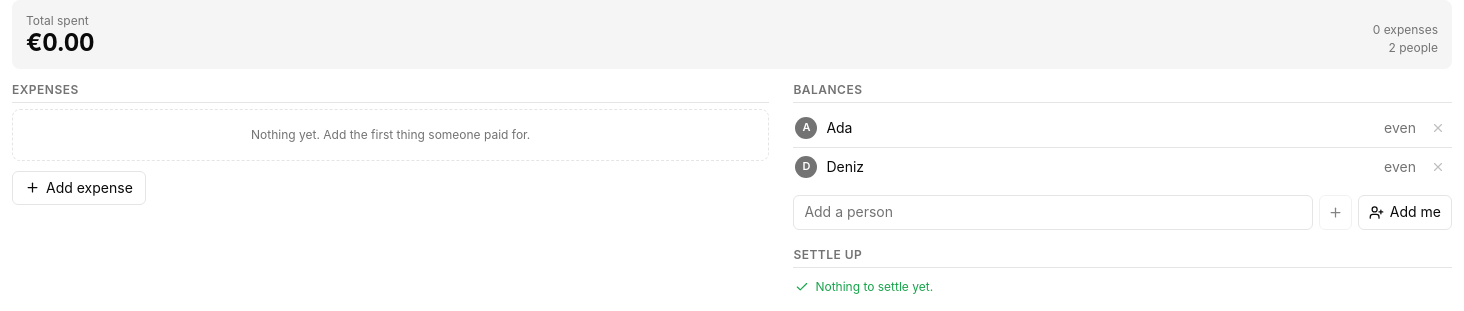
Test: Expenses › renames a person inline
Step 1. Replace the text in the field named "Name of Ada" with "Ada L." → [1097, 128], box [821, 115, 1372, 142]
Then press Enter
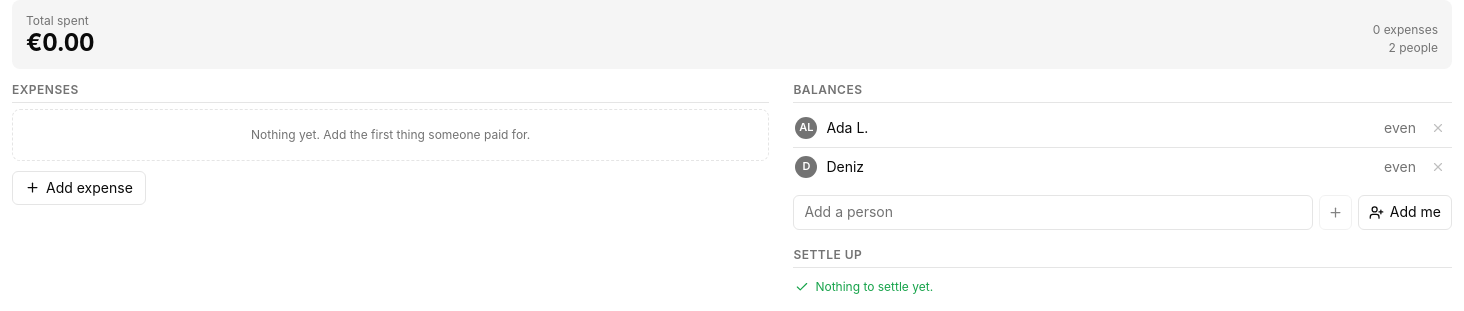
Step 2. Clear the field named "Name of Ada L." → [1097, 128], box [821, 115, 1372, 142]
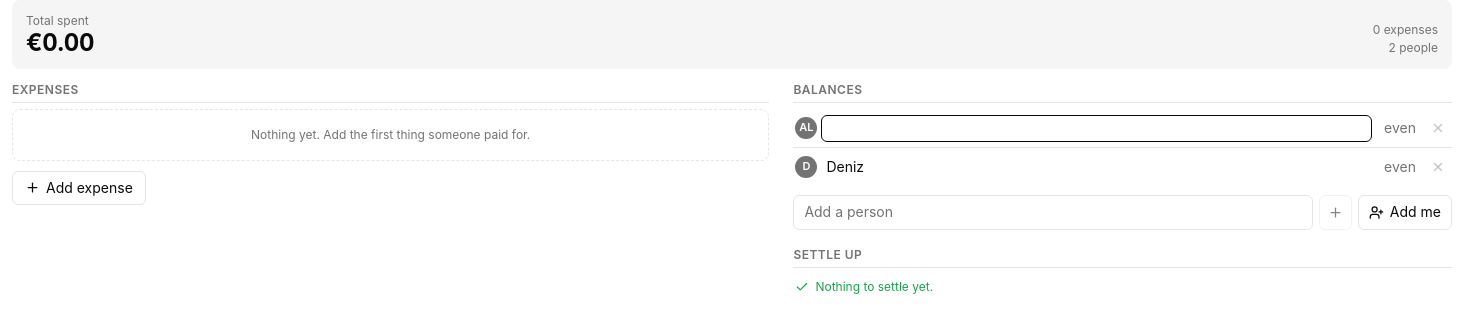
Step 3. Press Tab
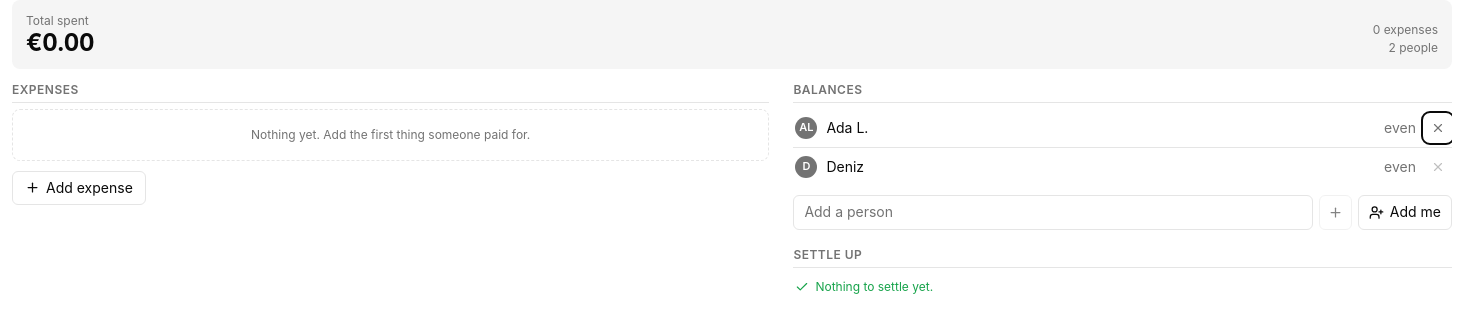
Result: the field named "Name of Ada L." holds "Ada L." at [821, 115, 1372, 142]
